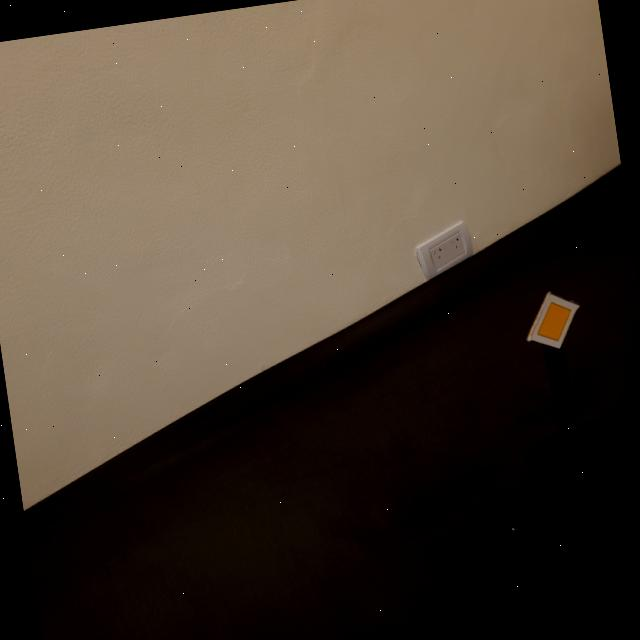priority: (520, 287, 586, 354)
